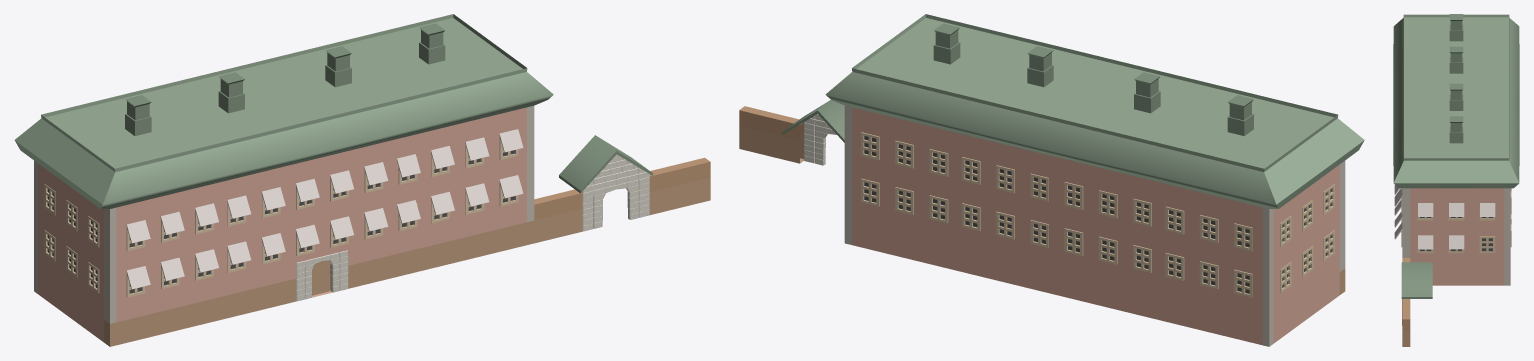
The model's file is Stenbockska palatset.fbx.
3 views of the same model, side by side, from view 1: azimuth 30°, elevation 25°; view 2: azimuth 150°, elevation 25°; view 3: azimuth 270°, elevation 25° (orthographic). The views are drawn at different scales.
Parts seen in each view (by area): view 1: pCube1, pCube96, pCube4, pCube5, pCube2, pCube3, pCube95; view 2: pCube1, pCube4, pCube2, pCube5, pCube3, pCube96, pCube15, pCube13, pCube19, pCube22, pCube24, pCube10 (+8 smaller); view 3: pCube1, pCube96, pCube3, pCube5, pCube2, pCube4, pCube34, pCube60, pCube63, pCube64, pCube61, pCube62.
Part boxes in pixels (bbox=[...]): pCube1: bbox=[14, 14, 710, 346]; pCube96: bbox=[559, 135, 652, 193]; pCube4: bbox=[419, 23, 445, 64]; pCube5: bbox=[325, 46, 351, 87]; pCube2: bbox=[125, 95, 151, 135]; pCube3: bbox=[218, 72, 244, 113]; pCube95: bbox=[312, 260, 330, 295]; pCube1: bbox=[739, 14, 1364, 346]; pCube4: bbox=[933, 23, 960, 64]; pCube2: bbox=[1227, 95, 1253, 136]; pCube5: bbox=[1027, 46, 1053, 87]; pCube3: bbox=[1134, 72, 1160, 113]; pCube96: bbox=[781, 100, 844, 142]; pCube15: bbox=[1098, 236, 1117, 264]; pCube13: bbox=[1064, 228, 1083, 256]; pCube19: bbox=[860, 178, 879, 206]; pCube22: bbox=[929, 195, 948, 223]; pCube24: bbox=[961, 157, 980, 184]; pCube10: bbox=[1165, 206, 1184, 234]; pCube1: bbox=[1393, 14, 1519, 346]; pCube96: bbox=[1401, 262, 1432, 298]; pCube3: bbox=[1449, 46, 1463, 73]; pCube5: bbox=[1449, 83, 1463, 110]; pCube2: bbox=[1449, 14, 1463, 41]; pCube4: bbox=[1449, 116, 1463, 143]; pCube34: bbox=[1479, 236, 1495, 253]; pCube60: bbox=[1418, 235, 1433, 249]; pCube63: bbox=[1449, 235, 1464, 249]; pCube64: bbox=[1479, 203, 1495, 216]; pCube61: bbox=[1418, 203, 1433, 216]; pCube62: bbox=[1449, 203, 1464, 216].
Bounding box in the file's own units: 512 × 161 × 128.
